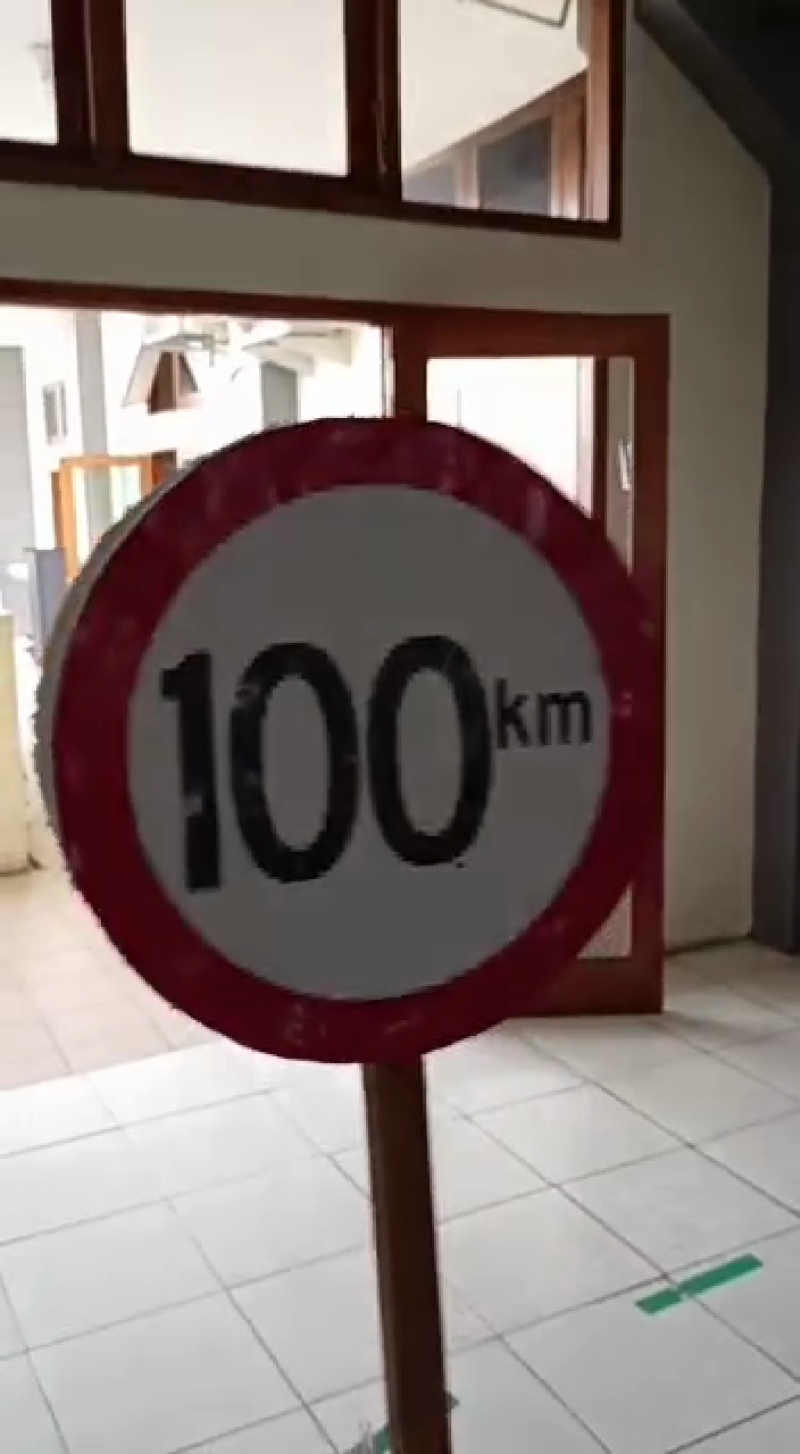batas maksimal 100kmperjam: (33, 434, 666, 1054)
